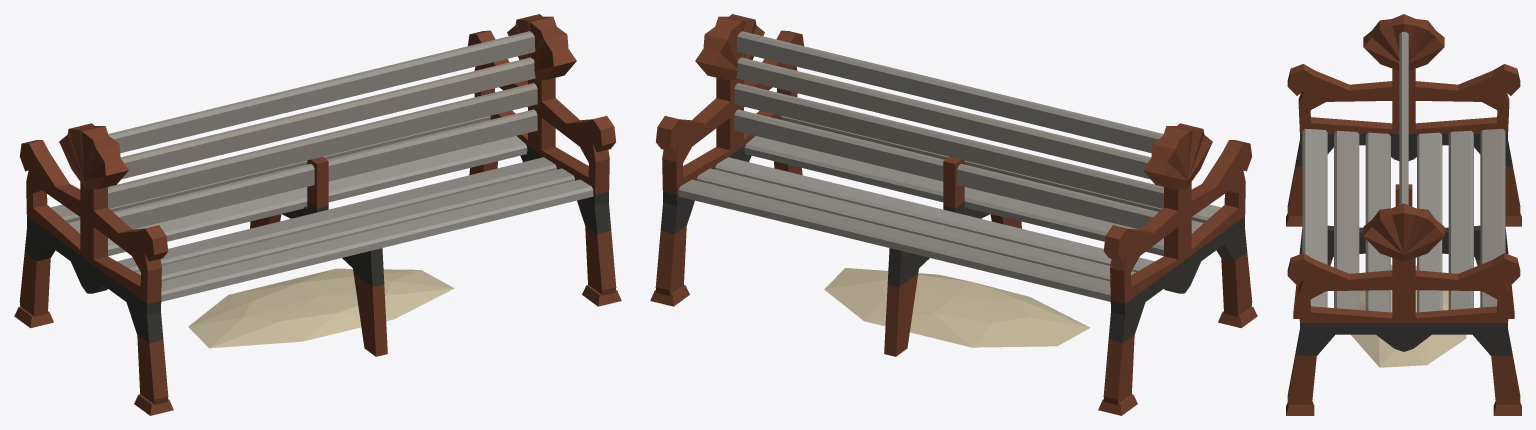
File: back-to-back-promenade-8c153b.glb
The picture shows the model from 3 angles, left to right: view 1: azimuth 30°, elevation 25°; view 2: azimuth 150°, elevation 25°; view 3: azimuth 270°, elevation 25°; orthographic projection. The views are drawn at different scales.
Parts seen in each view (by area): view 1: bench; view 2: bench; view 3: bench.
Boxes of the visible parts, x1,y1,x2,y2 form: bench: (14, 14, 621, 415); bench: (650, 14, 1257, 415); bench: (1286, 14, 1521, 415).
Bounding box in the file's own units: 2 × 0.95 × 1.
